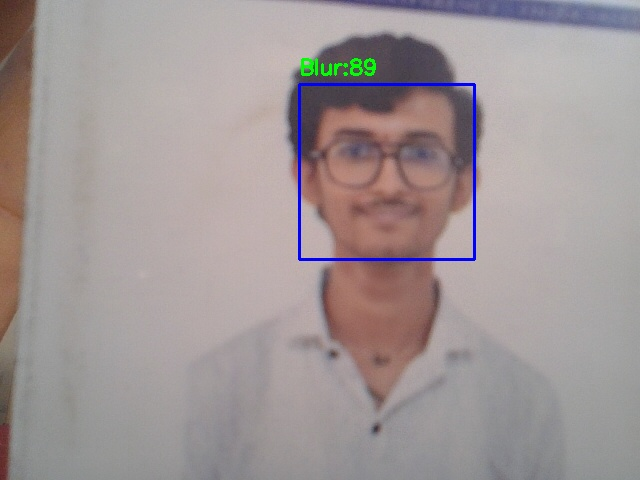fake: (299, 84, 474, 259)
